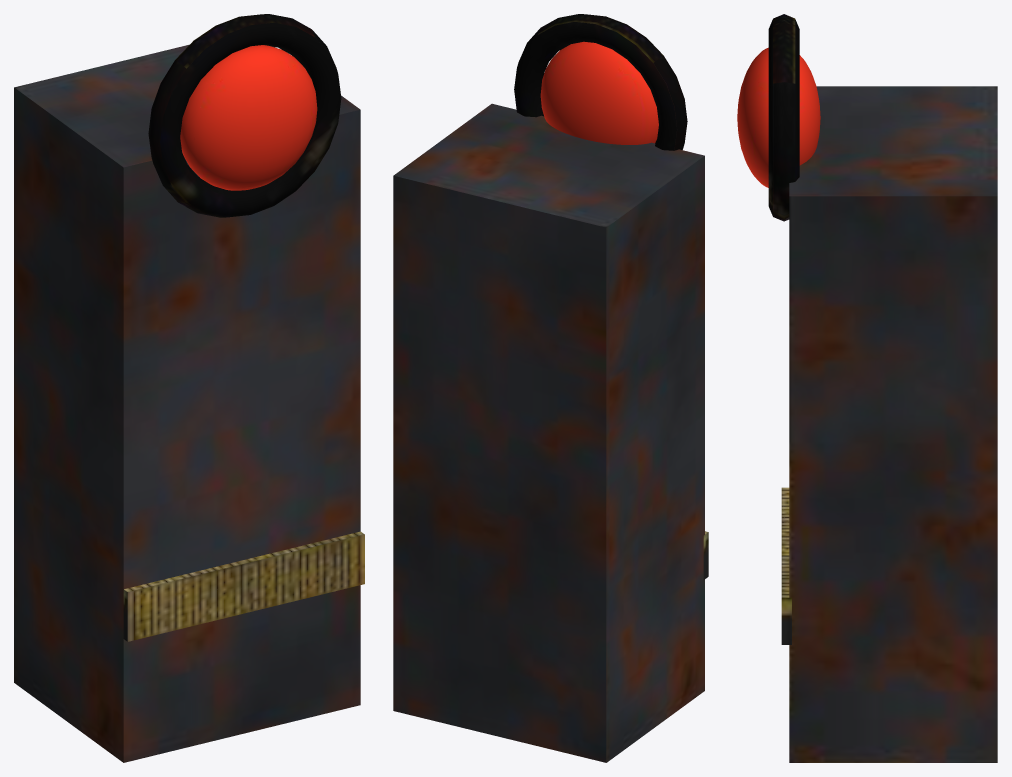
Rendered from receiver.glb.
3 views of the same model, side by side, from view 1: azimuth 30°, elevation 25°; view 2: azimuth 150°, elevation 25°; view 3: azimuth 270°, elevation 25° (orthographic). The views are drawn at different scales.
Parts seen in each view (by area): view 1: Main, Socket; view 2: Main, Socket; view 3: Main, Socket.
Part boxes in pixels (x1,y1,x2,y2): Main: [14, 14, 364, 762]; Socket: [180, 45, 317, 190]; Main: [393, 14, 708, 762]; Socket: [540, 41, 658, 144]; Main: [768, 14, 997, 762]; Socket: [737, 47, 820, 187].
Size of the model in its own units: 0.5 by 1.45 by 0.5.
2 materials, 2 textured.
